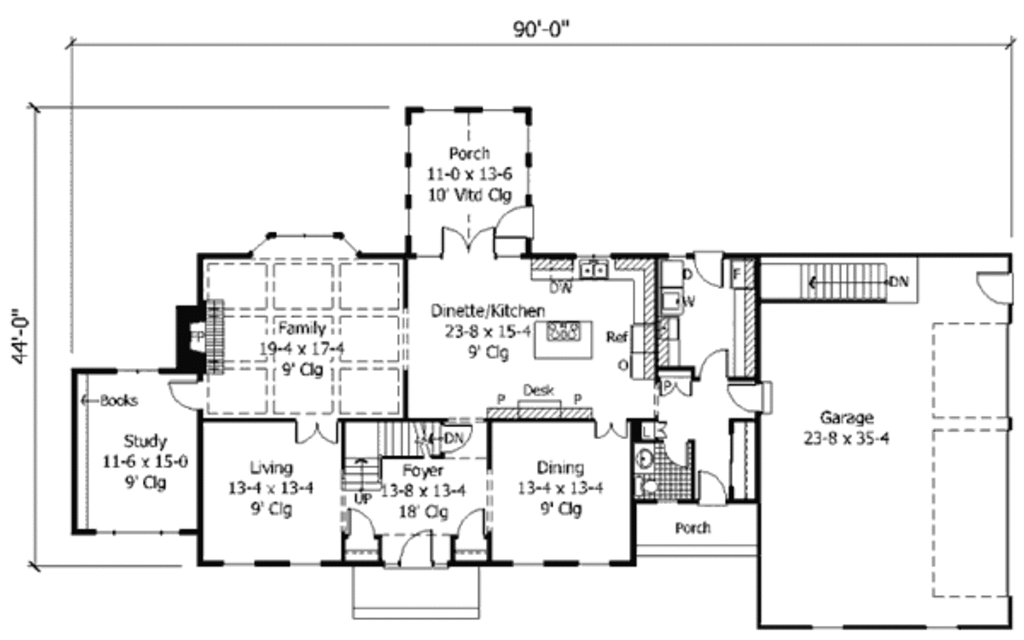door: (437, 222, 497, 260), (494, 203, 537, 240), (289, 415, 338, 447), (695, 465, 729, 511), (689, 247, 725, 290), (973, 270, 1016, 306), (399, 529, 433, 570), (727, 379, 763, 417), (165, 377, 203, 410), (344, 506, 376, 541), (457, 506, 489, 540), (591, 414, 629, 441), (663, 436, 691, 472), (702, 345, 730, 379)
kitchen_bar: (526, 318, 597, 366)
large_sink: (636, 475, 667, 504)
small_sink: (633, 438, 655, 475)
stairs: (339, 422, 444, 494), (755, 258, 909, 304)
twin_sink: (580, 258, 611, 283)
windows: (508, 553, 612, 572), (420, 100, 516, 120), (214, 556, 323, 571), (86, 524, 181, 539)
